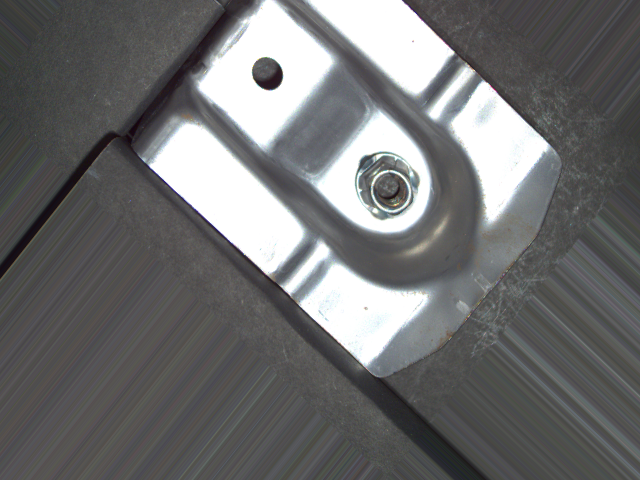good: (348, 148, 423, 221)
